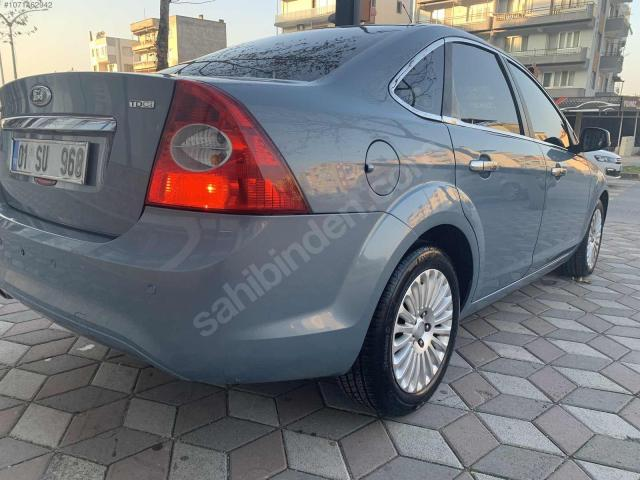plaka: (10, 138, 88, 184)
